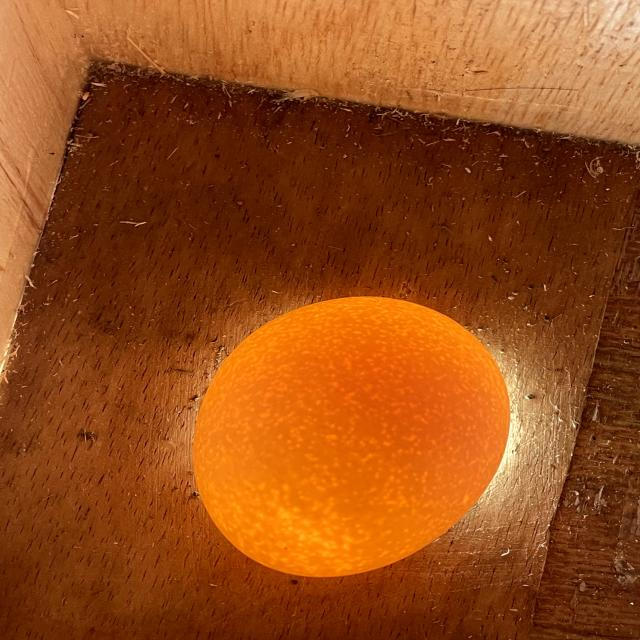infertile: (193, 296, 510, 576)
